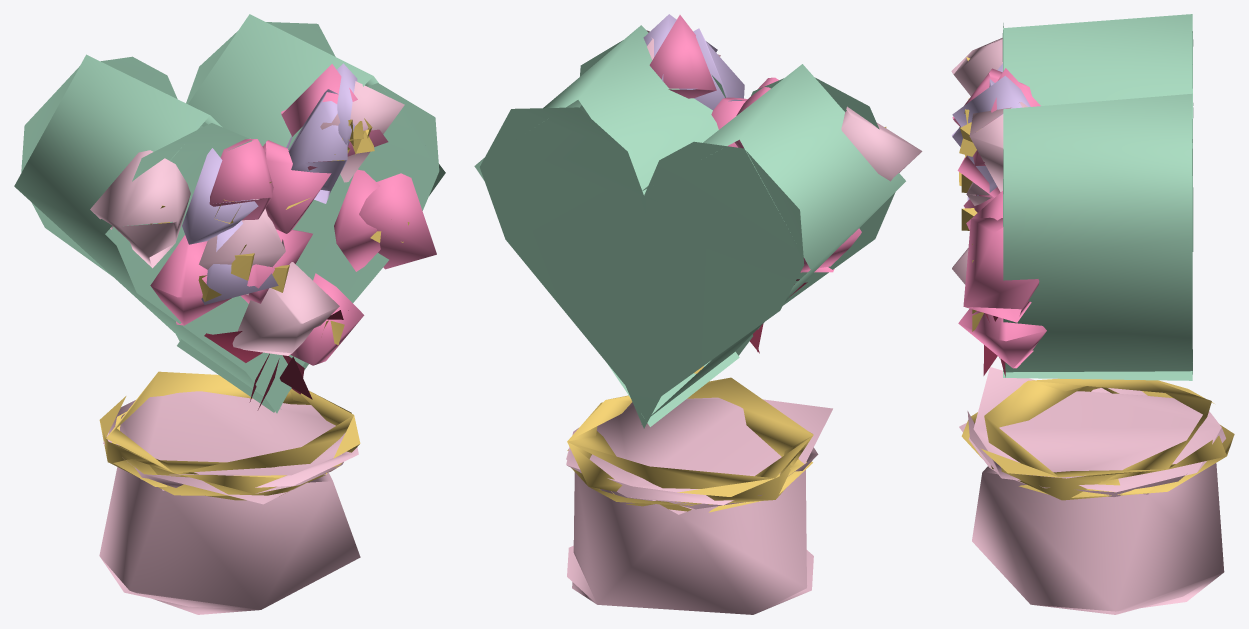
Rendered from lod_hedge_heart.glb.
3 views of the same model, side by side, from view 1: azimuth 30°, elevation 25°; view 2: azimuth 150°, elevation 25°; view 3: azimuth 270°, elevation 25° (orthographic). The views are drawn at different scales.
Parts seen in each view (by area): view 1: hedge_heart; view 2: hedge_heart; view 3: hedge_heart.
Boxes of the visible parts, box(x1,y1,x2,y2) form: hedge_heart: box(14, 14, 445, 614); hedge_heart: box(474, 14, 922, 614); hedge_heart: box(951, 14, 1234, 614).
Size of the model in its own units: 1.31 by 1.89 by 0.9236.
